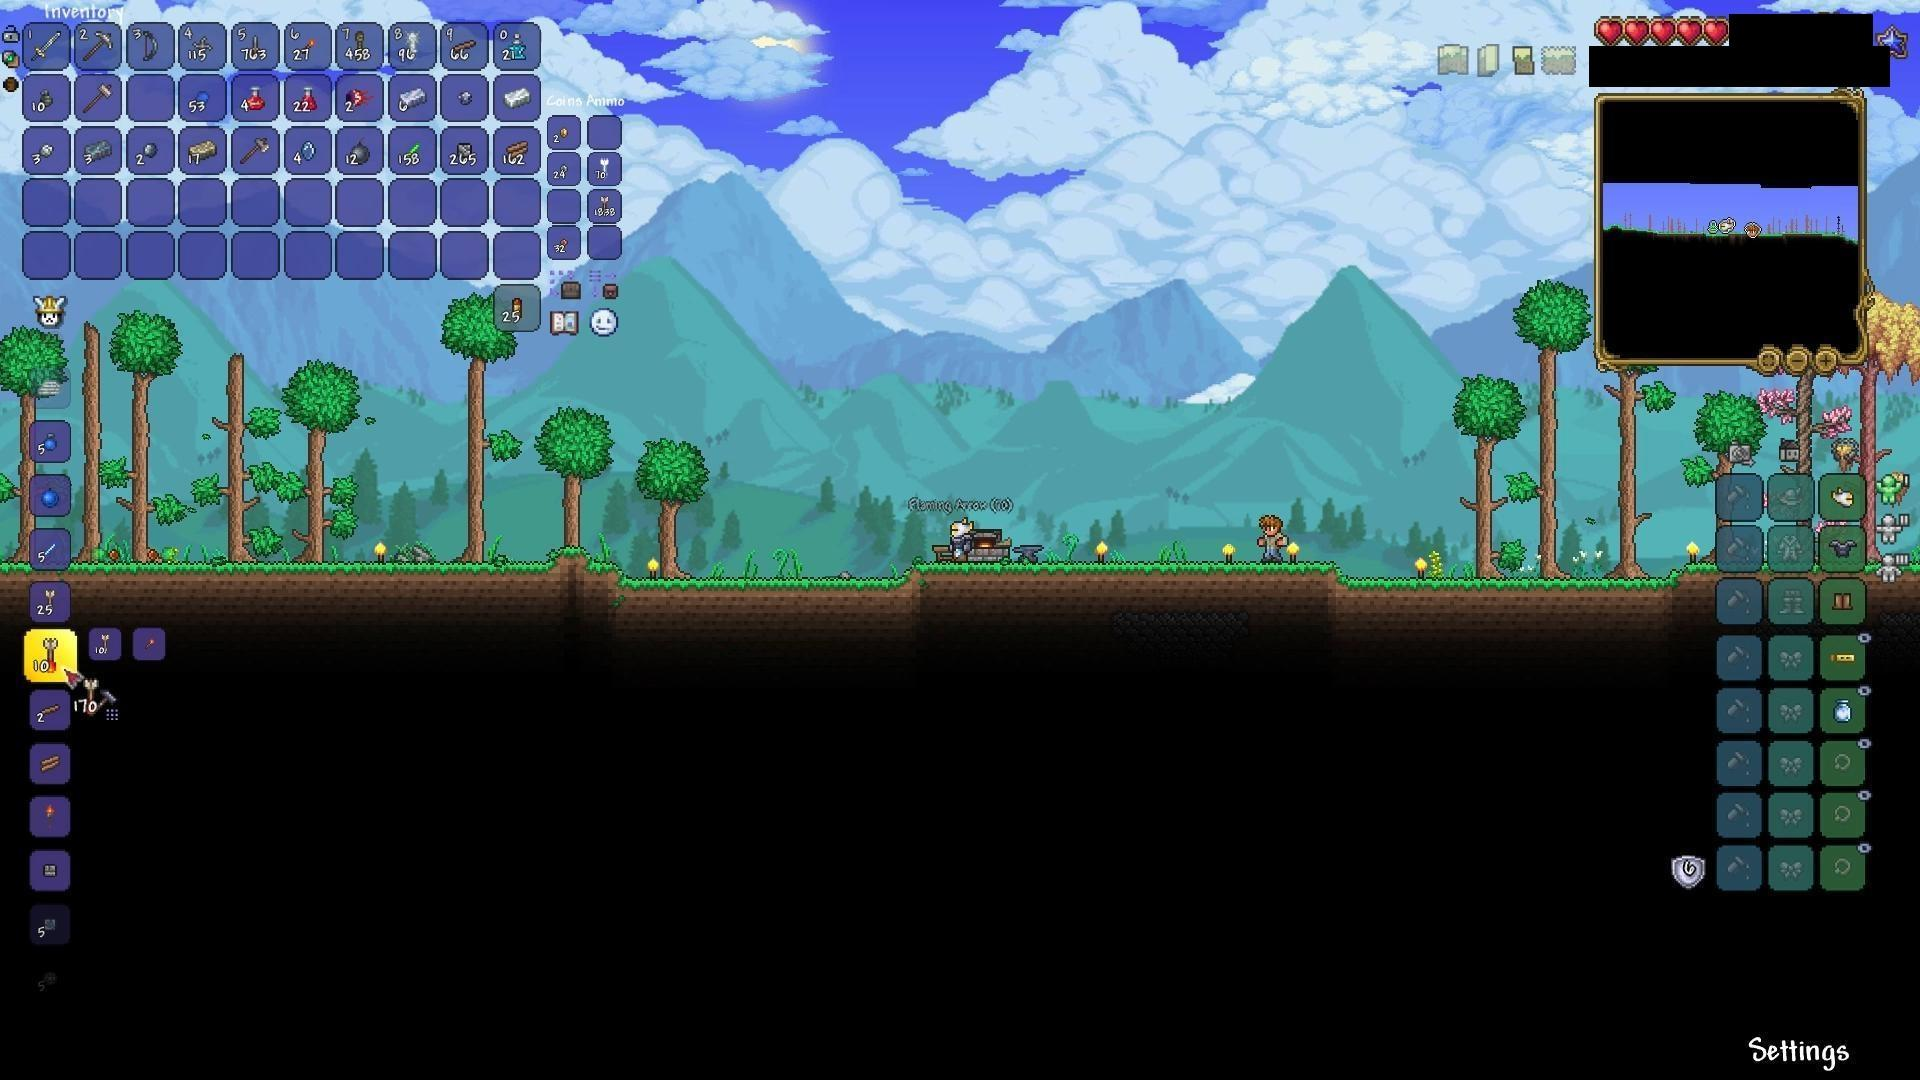dirt: (907, 558, 1332, 608), (1327, 563, 1712, 613), (73, 549, 550, 583), (629, 568, 919, 609), (546, 539, 637, 589)
heart: (1702, 17, 1733, 51), (1593, 16, 1626, 46), (1676, 15, 1704, 50), (1650, 16, 1676, 49), (1625, 15, 1651, 44)
tree: (286, 360, 368, 575), (1519, 281, 1577, 579), (112, 310, 175, 575), (435, 302, 495, 562), (1452, 367, 1510, 579), (1605, 380, 1660, 578), (525, 396, 597, 543), (216, 342, 261, 560), (632, 431, 687, 582)
